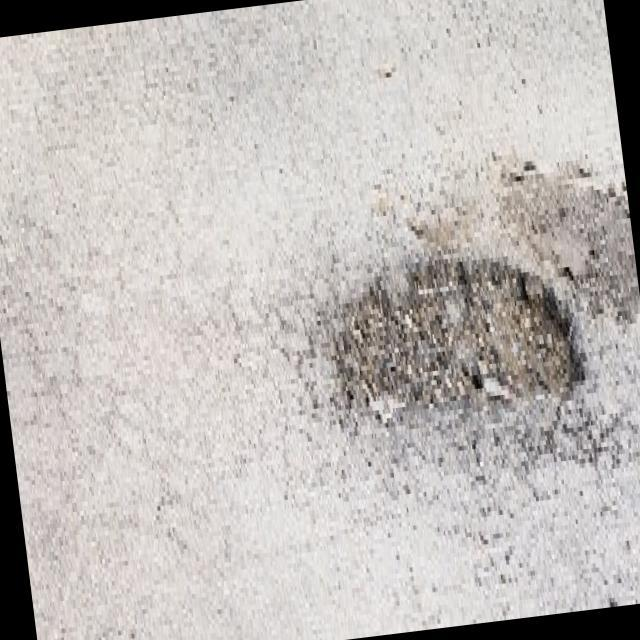Pothole: (322, 217, 596, 470)
